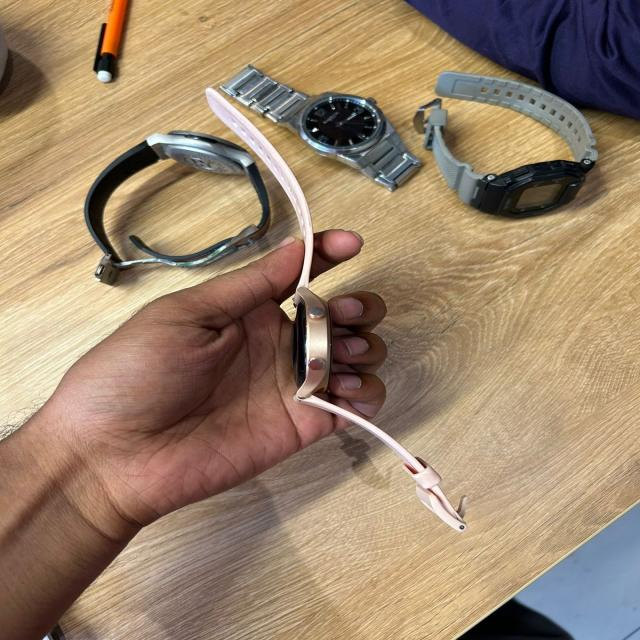watch: (413, 68, 599, 220), (216, 62, 423, 193)
